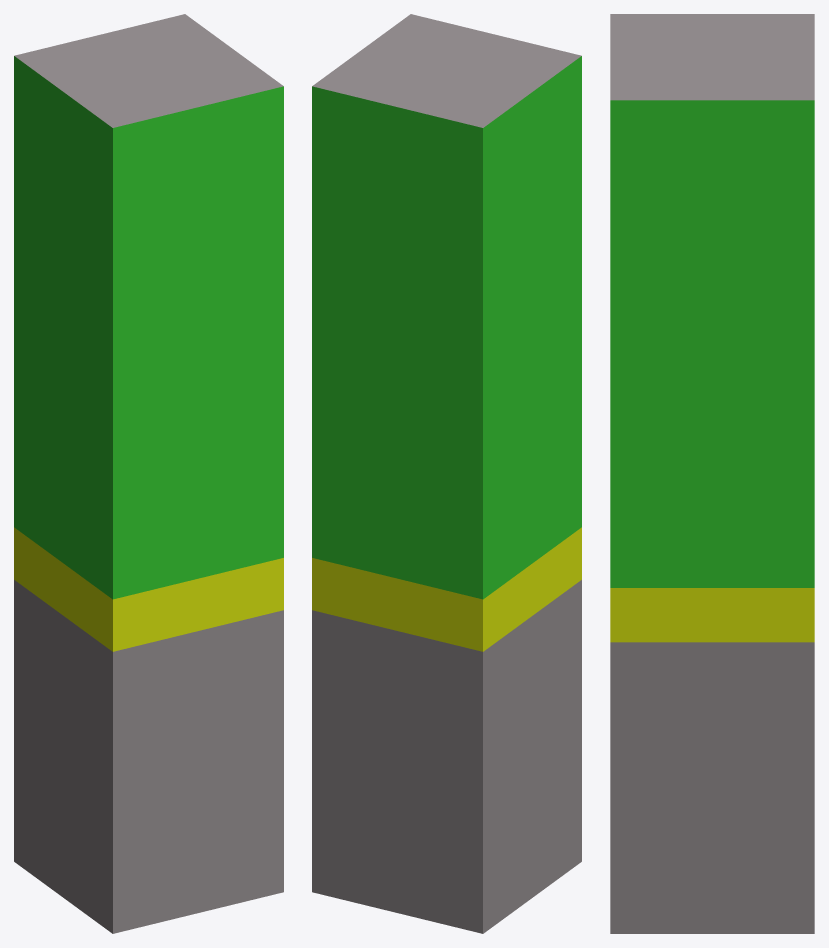
The model's file is parking_model.fbx.
3 views of the same model, side by side, from view 1: azimuth 30°, elevation 25°; view 2: azimuth 150°, elevation 25°; view 3: azimuth 270°, elevation 25° (orthographic). The views are drawn at different scales.
Visible parts, largest first — view 1: Куб; view 2: Куб; view 3: Куб.
Boxes of the visible parts, bbox=[...] form: Куб: bbox=[14, 14, 283, 933]; Куб: bbox=[312, 14, 581, 933]; Куб: bbox=[610, 14, 814, 933].
Size of the model in its own units: 200 by 900 by 200.
1 material, 1 textured.
